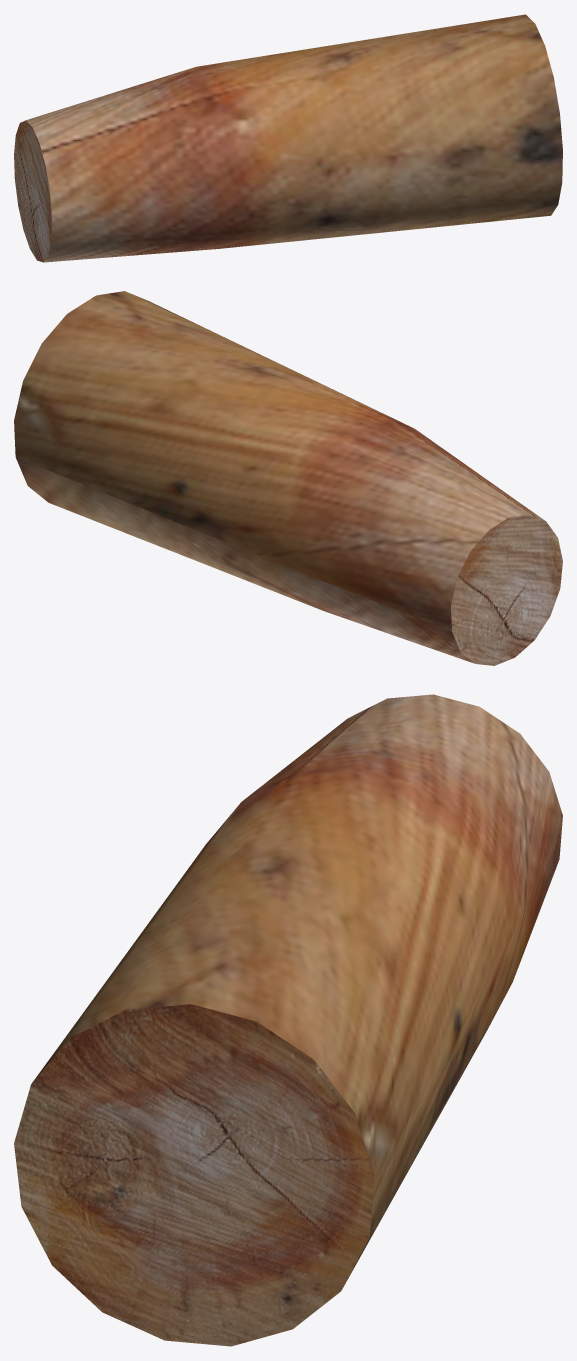
File: fluchtlevel_hindernis_rund.fbx
3 renders of one model, top to bottom at view 1: azimuth 30°, elevation 25°; view 2: azimuth 150°, elevation 25°; view 3: azimuth 270°, elevation 25°, orthographic. The views are drawn at different scales.
Visible parts, largest first — view 1: Ast.002; view 2: Ast.002; view 3: Ast.002.
Part boxes in pixels (left/top/right/bottom): Ast.002: left=14, top=14, right=562, bottom=262; Ast.002: left=14, top=291, right=562, bottom=665; Ast.002: left=14, top=694, right=562, bottom=1346.
Size of the model in its own units: 47.82 by 17.63 by 26.03.
1 material, 1 textured.
